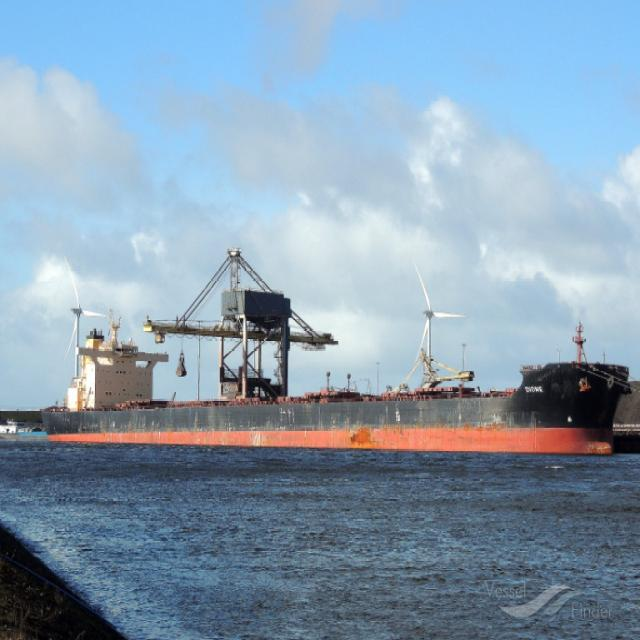OCR: (521, 382, 545, 400)
